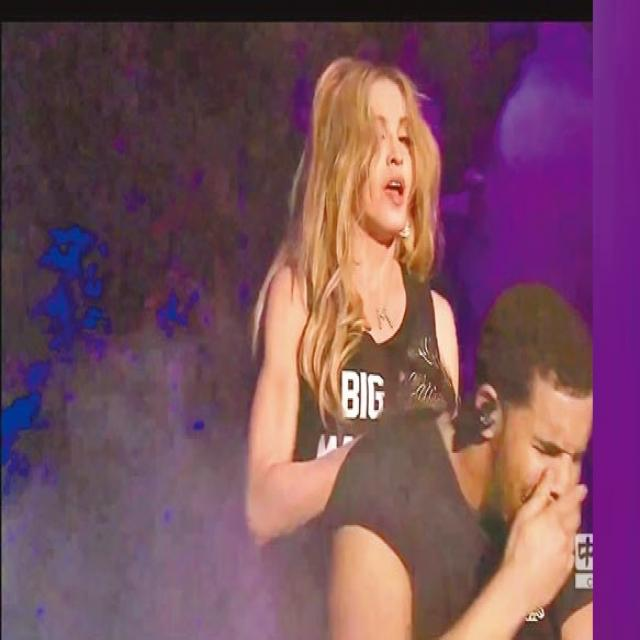nomask: (506, 384, 586, 536), (360, 89, 415, 228)
